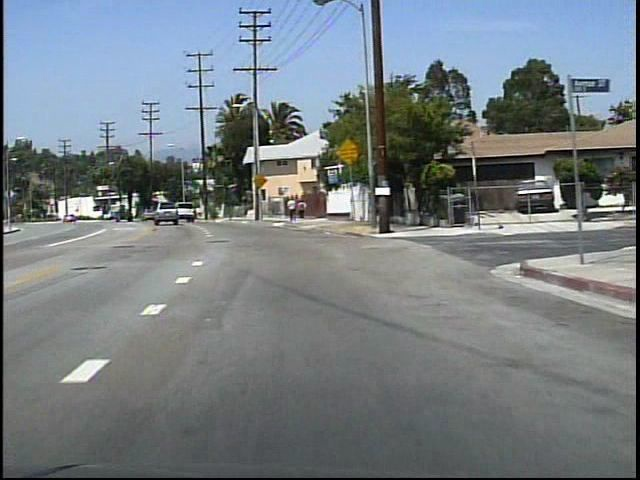person: (287, 196, 298, 223), (297, 198, 308, 222)
